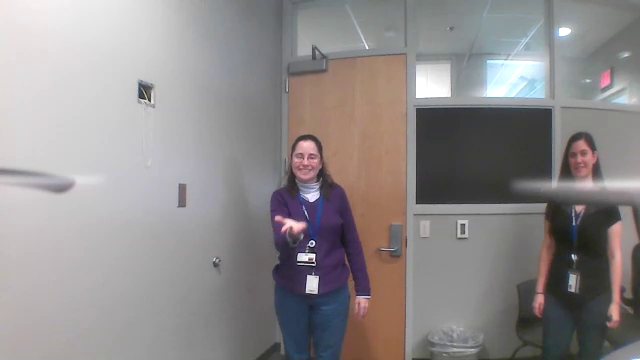land: (269, 214, 307, 239)
